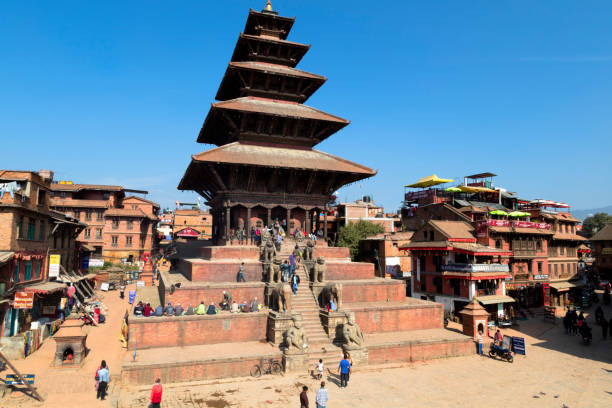nyathapola: (165, 4, 384, 368)
